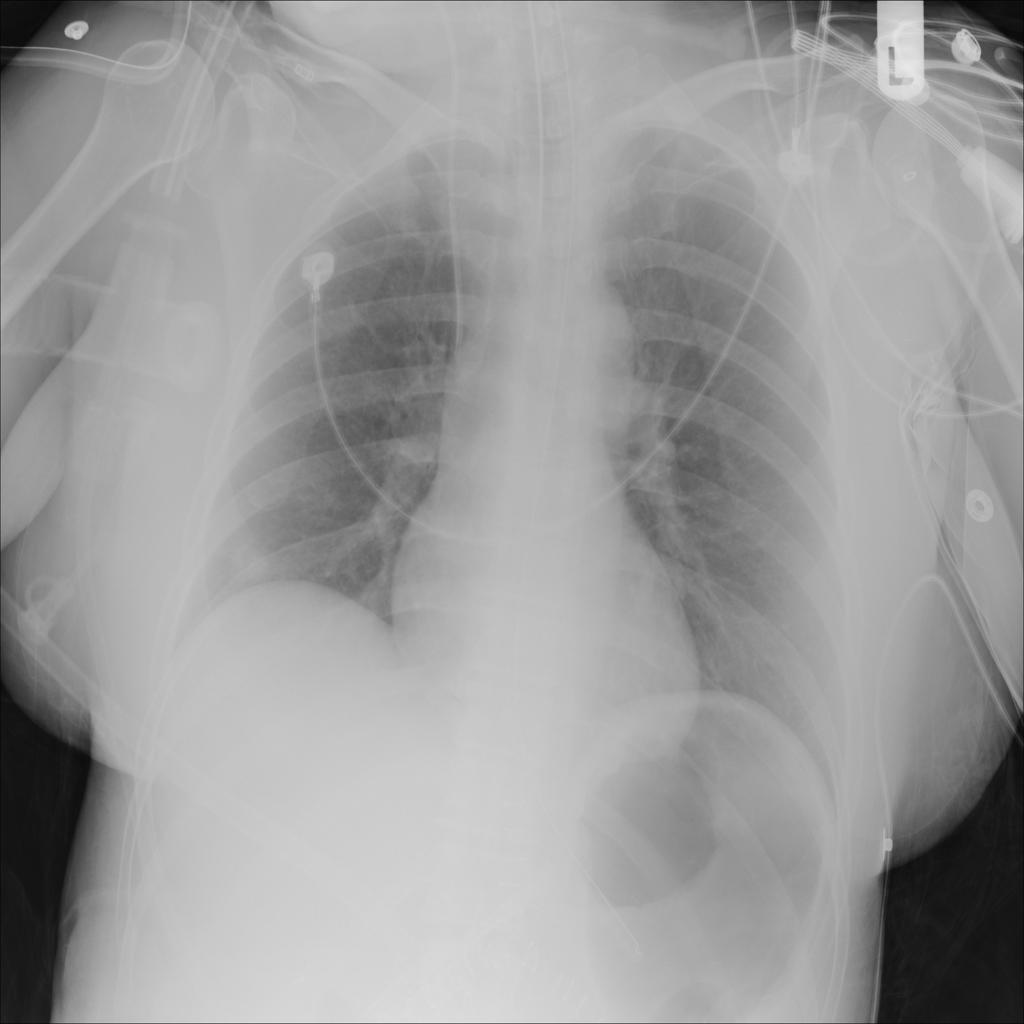nodule: (215, 527, 288, 597)
